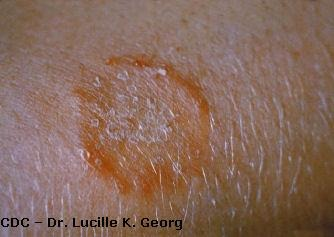Ringworm: (63, 46, 232, 205)
